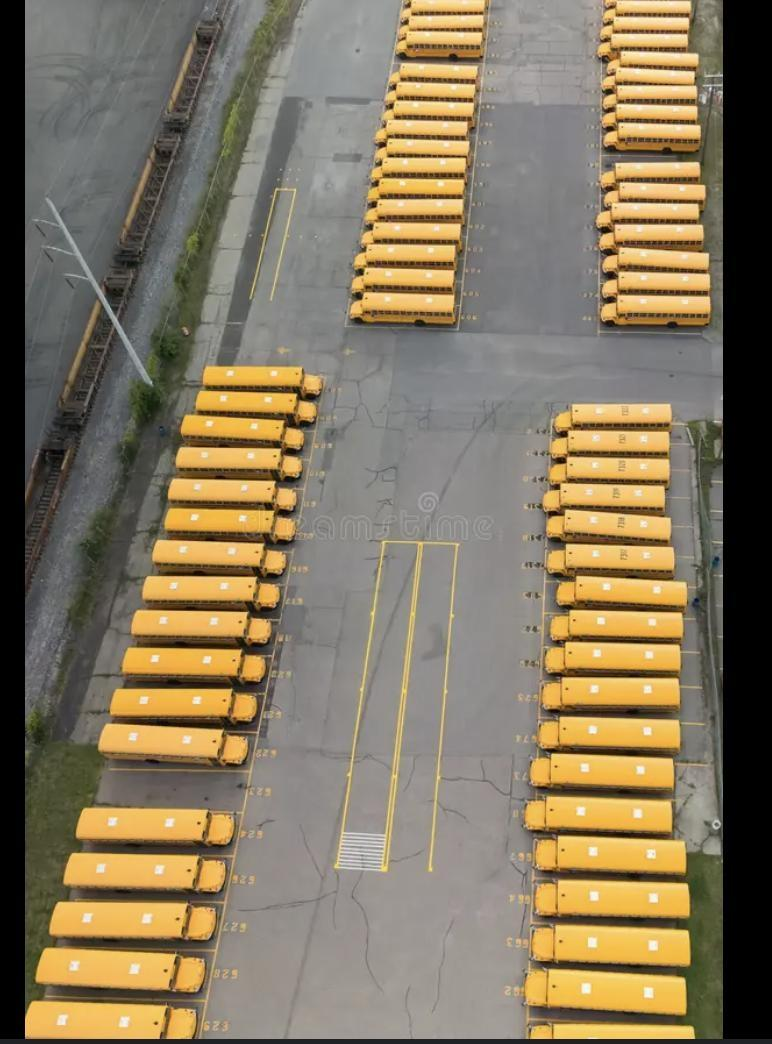Bus: (521, 964, 692, 1020), (58, 848, 232, 901), (94, 716, 258, 772), (38, 945, 204, 1000), (526, 923, 698, 971), (28, 998, 204, 1044), (52, 898, 222, 944), (74, 804, 242, 850), (530, 878, 697, 922), (124, 640, 274, 687), (130, 603, 276, 650), (532, 834, 690, 877), (527, 750, 680, 794), (521, 795, 678, 836), (535, 715, 686, 755), (158, 503, 300, 545), (151, 534, 290, 576), (141, 571, 287, 609), (537, 641, 688, 677), (166, 474, 301, 514), (111, 688, 261, 723), (174, 410, 309, 448), (538, 678, 685, 712), (550, 608, 688, 644), (558, 574, 692, 610), (522, 1017, 699, 1044), (196, 361, 326, 396), (546, 543, 682, 576), (173, 444, 303, 478), (190, 390, 320, 424), (548, 399, 678, 432), (348, 293, 462, 330), (597, 297, 715, 330), (547, 513, 675, 543), (540, 484, 674, 512), (549, 455, 674, 482), (598, 200, 704, 231), (601, 124, 705, 155), (350, 268, 462, 294), (604, 270, 715, 296), (549, 432, 676, 454), (600, 224, 706, 250), (597, 163, 703, 189), (392, 32, 488, 60), (352, 244, 464, 268), (601, 102, 701, 128), (601, 249, 712, 272), (601, 68, 699, 94), (368, 158, 471, 182), (384, 63, 484, 87), (364, 221, 467, 244), (382, 100, 478, 124), (372, 120, 470, 143), (372, 140, 474, 162), (598, 34, 692, 57), (364, 202, 468, 222), (599, 1, 695, 22), (600, 16, 691, 38), (364, 181, 474, 199), (384, 85, 478, 104), (604, 52, 698, 70), (398, 16, 486, 35), (399, 1, 490, 18)
